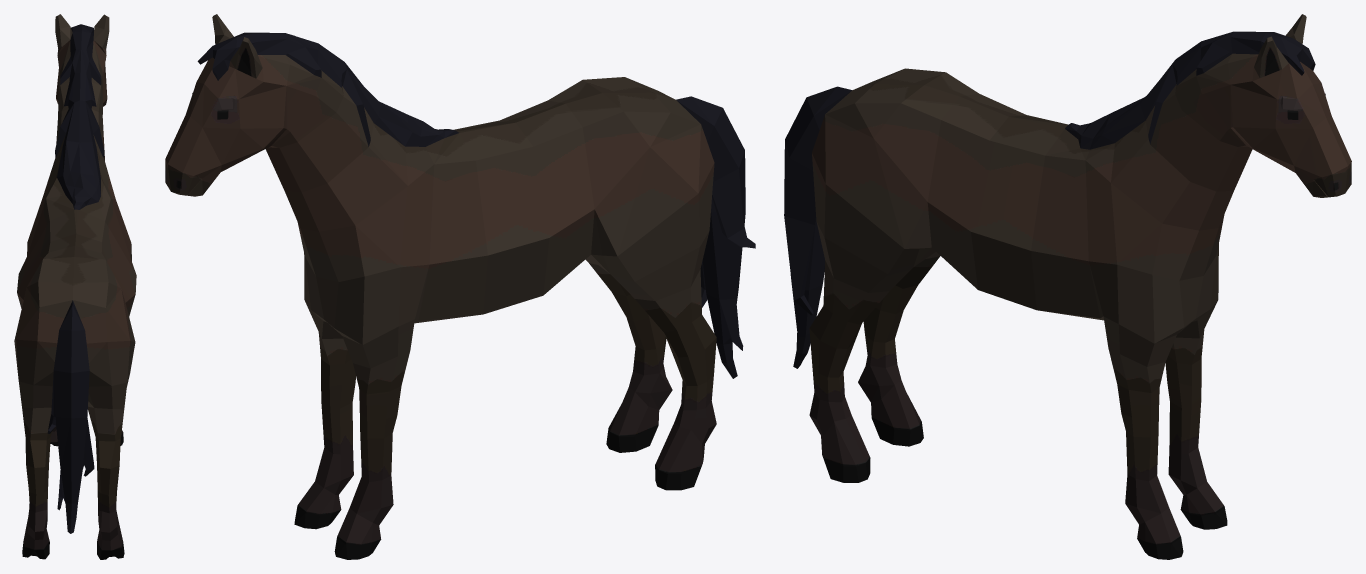
Rendered from Horse.fbx.
3 views of the same model, side by side, from view 1: azimuth 30°, elevation 25°; view 2: azimuth 150°, elevation 25°; view 3: azimuth 270°, elevation 25° (orthographic). The views are drawn at different scales.
Parts seen in each view (by area): view 1: Horse; view 2: Horse; view 3: Horse.
Boxes of the visible parts, box(x1,y1,x2,y2) form: Horse: box(14, 14, 136, 559); Horse: box(165, 14, 755, 559); Horse: box(784, 14, 1351, 559).
Bounding box in the file's own units: 2.15 × 3.34 × 3.2.
